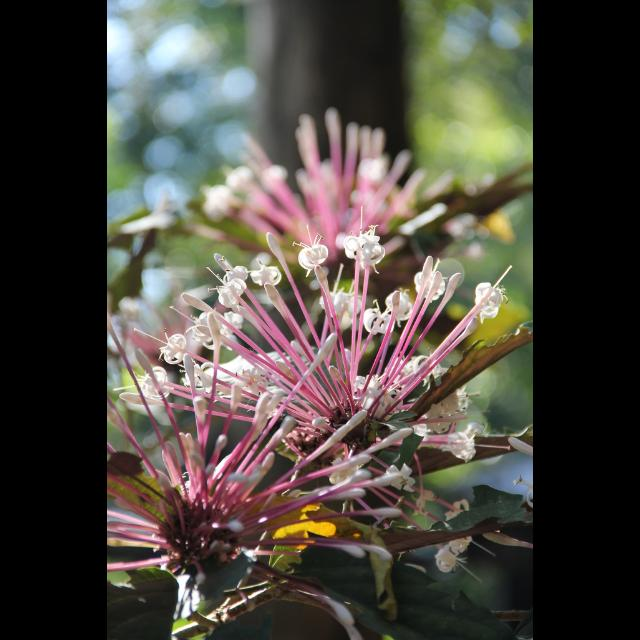Flower: (107, 106, 521, 574), (345, 217, 391, 269)
